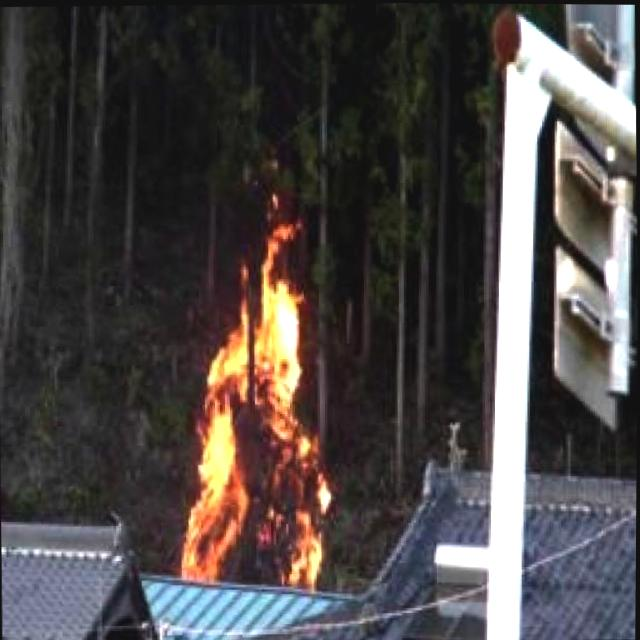helmet: (180, 214, 336, 582)
